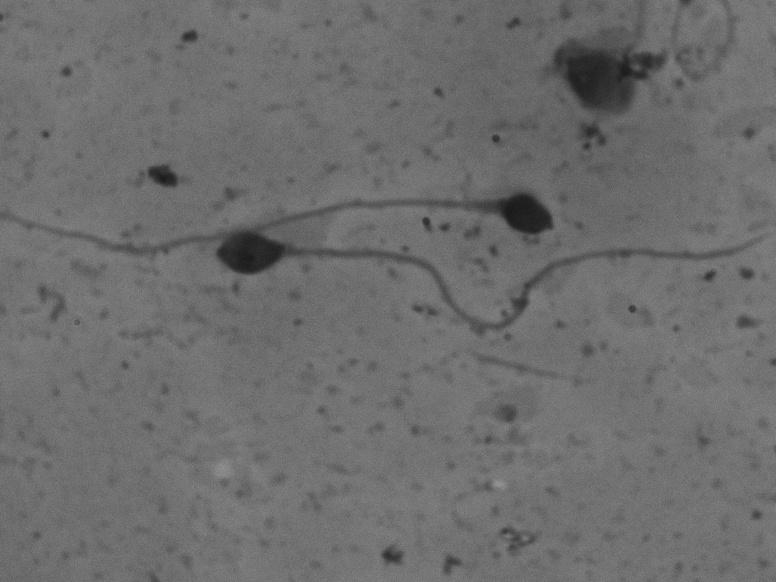Abnormal: (198, 209, 765, 343)
